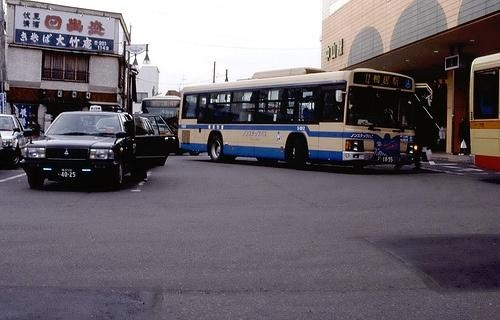bus: (177, 66, 419, 166), (470, 50, 500, 174)
car: (22, 110, 176, 194), (2, 112, 29, 169)
